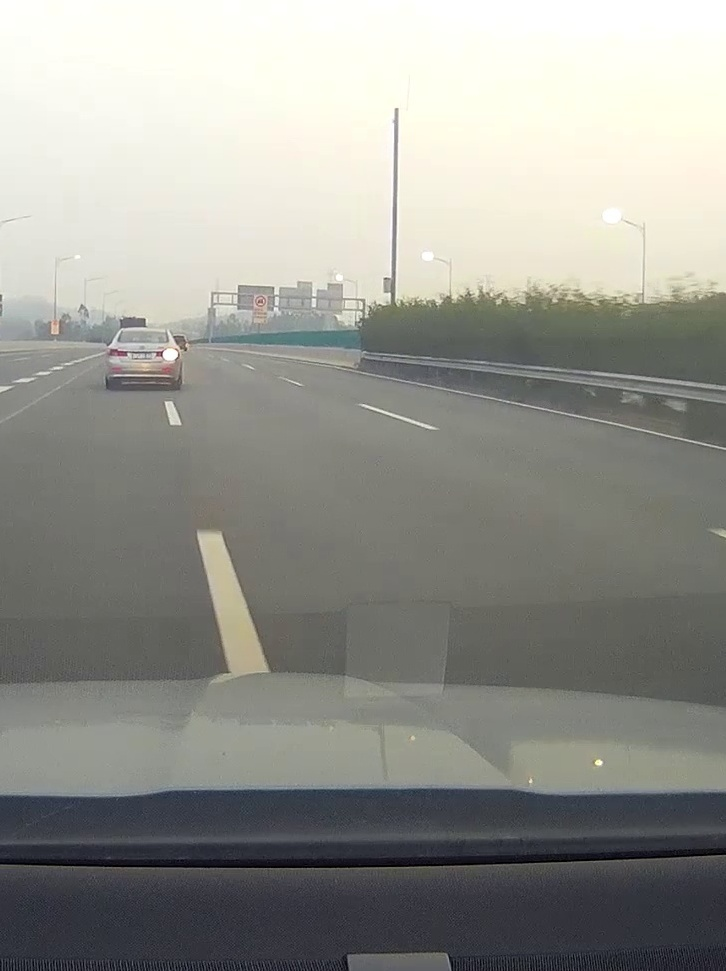L_light: (109, 348, 128, 357)
R_light: (156, 348, 178, 357)
T_light: (137, 331, 150, 334)
day-right: (105, 327, 181, 389)
